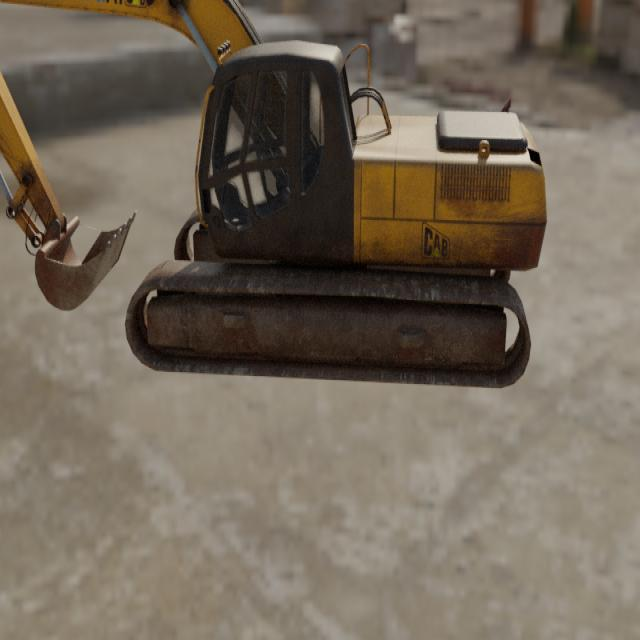excavator: (0, 0, 548, 389)
